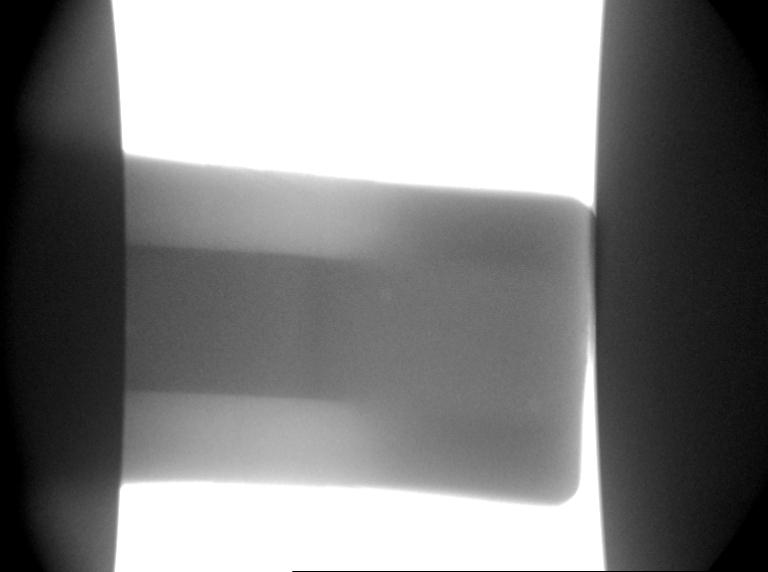defect: (124, 321, 137, 340)
